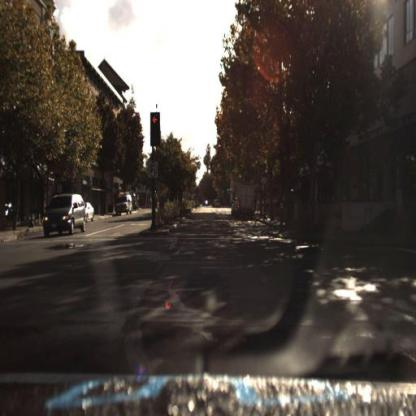car: (45, 194, 85, 236), (235, 178, 258, 224), (111, 193, 130, 218), (86, 199, 97, 225), (84, 200, 95, 224), (228, 200, 236, 217)
trafficLight: (246, 66, 251, 103), (283, 131, 289, 159)
trafficLight-RedLeft: (152, 113, 160, 148)
